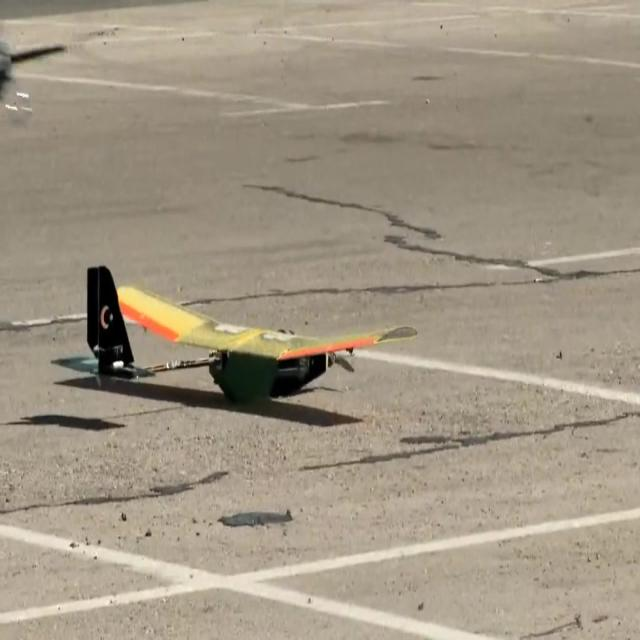iha: (48, 265, 419, 408)
